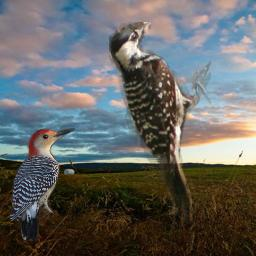Woodpecker: (109, 22, 211, 223), (9, 128, 75, 241)
